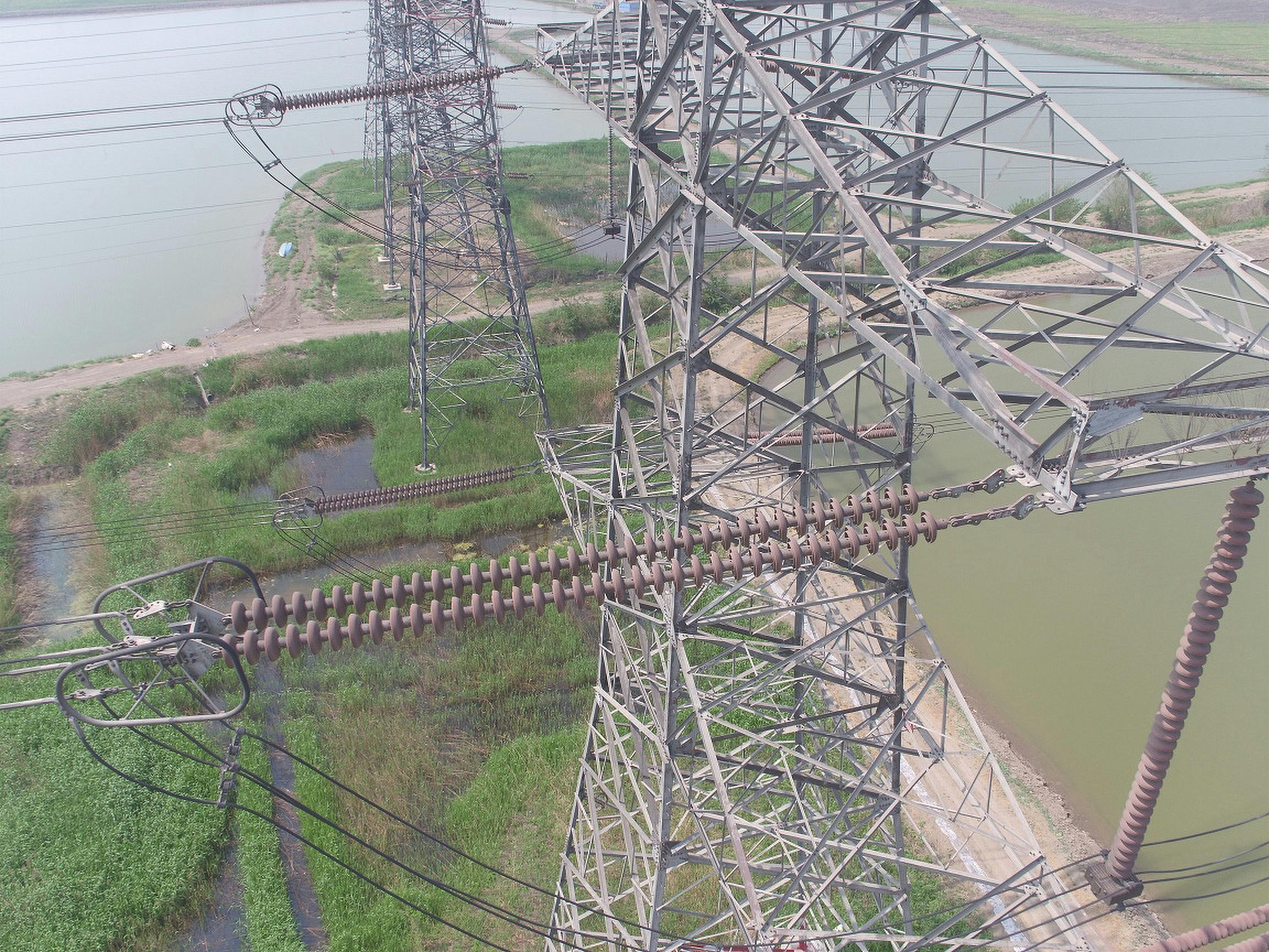insulator: (217, 480, 941, 674), (1100, 482, 1267, 883), (271, 63, 501, 113), (311, 463, 517, 516), (1131, 897, 1269, 952), (738, 420, 899, 449), (714, 53, 859, 82), (606, 122, 615, 219)
